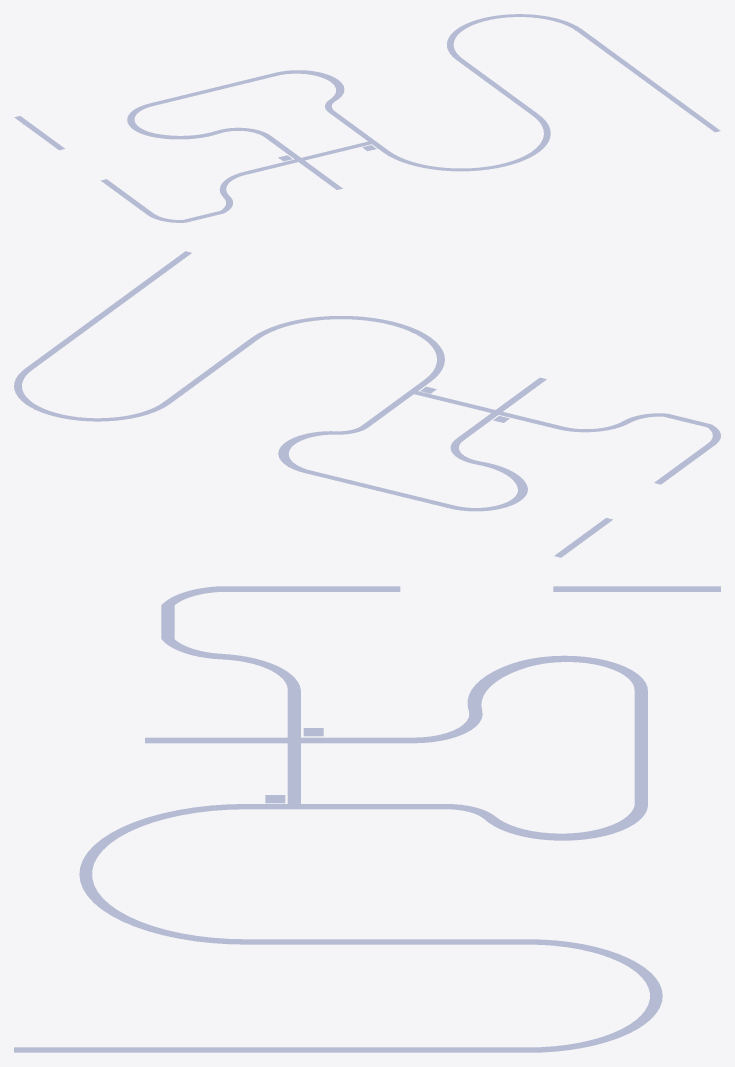
The model's file is linhadoseguidor.dae.
The picture shows the model from 3 angles, top to bottom: view 1: azimuth 30°, elevation 25°; view 2: azimuth 150°, elevation 25°; view 3: azimuth 270°, elevation 25°; orthographic projection. The views are drawn at different scales.
Visible parts, largest first — view 1: node_8f26128d_fb10_412c_97d3_a4d3234f7f31_mesh0, node_63f44d62_263d_4152_a22a_f0759853bf2e_mesh0, node_9f91eea4_a242_4c83_97c6_5c5dfadd185c_mesh0, node_1e1c3114_b4c0_4167_be02_c76019f784fa_mesh0, node_38f7b171_e6c7_4ff1_8374_194ff8a9c72b_mesh0, node_9b9c90db_2c4b_4cb1_9d7d_91c016512fdd_mesh0, node_dbe38a51_c099_464f_b9ca_126a03bfe92e_mesh0, node_bdd43913_d88b_4451_a559_71600c86d1a4_mesh0, node_9c8f3a33_bd32_42ff_a174_9cd7f5fe2d75_mesh0; view 2: node_8f26128d_fb10_412c_97d3_a4d3234f7f31_mesh0, node_63f44d62_263d_4152_a22a_f0759853bf2e_mesh0, node_9f91eea4_a242_4c83_97c6_5c5dfadd185c_mesh0, node_1e1c3114_b4c0_4167_be02_c76019f784fa_mesh0, node_38f7b171_e6c7_4ff1_8374_194ff8a9c72b_mesh0, node_9b9c90db_2c4b_4cb1_9d7d_91c016512fdd_mesh0, node_dbe38a51_c099_464f_b9ca_126a03bfe92e_mesh0, node_bdd43913_d88b_4451_a559_71600c86d1a4_mesh0; view 3: node_8f26128d_fb10_412c_97d3_a4d3234f7f31_mesh0, node_9f91eea4_a242_4c83_97c6_5c5dfadd185c_mesh0, node_63f44d62_263d_4152_a22a_f0759853bf2e_mesh0, node_1e1c3114_b4c0_4167_be02_c76019f784fa_mesh0, node_38f7b171_e6c7_4ff1_8374_194ff8a9c72b_mesh0, node_9b9c90db_2c4b_4cb1_9d7d_91c016512fdd_mesh0, node_bdd43913_d88b_4451_a559_71600c86d1a4_mesh0, node_dbe38a51_c099_464f_b9ca_126a03bfe92e_mesh0, node_9c8f3a33_bd32_42ff_a174_9cd7f5fe2d75_mesh0, node_b85bd9a6_500c_4318_b7d8_71ea9bf62e74_mesh0, node_2ee30d62_a237_4e4a_bcc1_fdade1938b8c_mesh0, node_cf1f7e22_04a5_4740_9c8a_31a557c1cec6_mesh0.
Part boxes in pixels (left/top/right/bottom): node_8f26128d_fb10_412c_97d3_a4d3234f7f31_mesh0: left=246, top=135, right=371, bottom=189; node_63f44d62_263d_4152_a22a_f0759853bf2e_mesh0: left=383, top=114, right=550, bottom=171; node_9f91eea4_a242_4c83_97c6_5c5dfadd185c_mesh0: left=576, top=29, right=720, bottom=132; node_1e1c3114_b4c0_4167_be02_c76019f784fa_mesh0: left=127, top=103, right=270, bottom=139; node_38f7b171_e6c7_4ff1_8374_194ff8a9c72b_mesh0: left=447, top=14, right=581, bottom=59; node_9b9c90db_2c4b_4cb1_9d7d_91c016512fdd_mesh0: left=276, top=70, right=344, bottom=112; node_dbe38a51_c099_464f_b9ca_126a03bfe92e_mesh0: left=151, top=72, right=279, bottom=105; node_bdd43913_d88b_4451_a559_71600c86d1a4_mesh0: left=457, top=58, right=538, bottom=115; node_9c8f3a33_bd32_42ff_a174_9cd7f5fe2d75_mesh0: left=329, top=111, right=388, bottom=152; node_8f26128d_fb10_412c_97d3_a4d3234f7f31_mesh0: left=414, top=377, right=558, bottom=440; node_63f44d62_263d_4152_a22a_f0759853bf2e_mesh0: left=252, top=316, right=444, bottom=381; node_9f91eea4_a242_4c83_97c6_5c5dfadd185c_mesh0: left=25, top=251, right=191, bottom=369; node_1e1c3114_b4c0_4167_be02_c76019f784fa_mesh0: left=449, top=439, right=527, bottom=511; node_38f7b171_e6c7_4ff1_8374_194ff8a9c72b_mesh0: left=14, top=368, right=169, bottom=421; node_9b9c90db_2c4b_4cb1_9d7d_91c016512fdd_mesh0: left=278, top=426, right=367, bottom=472; node_dbe38a51_c099_464f_b9ca_126a03bfe92e_mesh0: left=304, top=470, right=452, bottom=507; node_bdd43913_d88b_4451_a559_71600c86d1a4_mesh0: left=163, top=338, right=257, bottom=403; node_8f26128d_fb10_412c_97d3_a4d3234f7f31_mesh0: left=145, top=693, right=413, bottom=803; node_9f91eea4_a242_4c83_97c6_5c5dfadd185c_mesh0: left=14, top=1047, right=528, bottom=1052; node_63f44d62_263d_4152_a22a_f0759853bf2e_mesh0: left=79, top=804, right=245, bottom=944; node_1e1c3114_b4c0_4167_be02_c76019f784fa_mesh0: left=413, top=655, right=647, bottom=743; node_38f7b171_e6c7_4ff1_8374_194ff8a9c72b_mesh0: left=528, top=939, right=662, bottom=1052; node_9b9c90db_2c4b_4cb1_9d7d_91c016512fdd_mesh0: left=447, top=804, right=647, bottom=840; node_bdd43913_d88b_4451_a559_71600c86d1a4_mesh0: left=245, top=939, right=528, bottom=944; node_dbe38a51_c099_464f_b9ca_126a03bfe92e_mesh0: left=634, top=692, right=647, bottom=805; node_9c8f3a33_bd32_42ff_a174_9cd7f5fe2d75_mesh0: left=245, top=804, right=446, bottom=809; node_b85bd9a6_500c_4318_b7d8_71ea9bf62e74_mesh0: left=162, top=639, right=300, bottom=692; node_2ee30d62_a237_4e4a_bcc1_fdade1938b8c_mesh0: left=226, top=586, right=400, bottom=591; node_cf1f7e22_04a5_4740_9c8a_31a557c1cec6_mesh0: left=553, top=586, right=720, bottom=591.
Bounding box in the file's own units: 1.65 × 0.000699 × 1.05.
